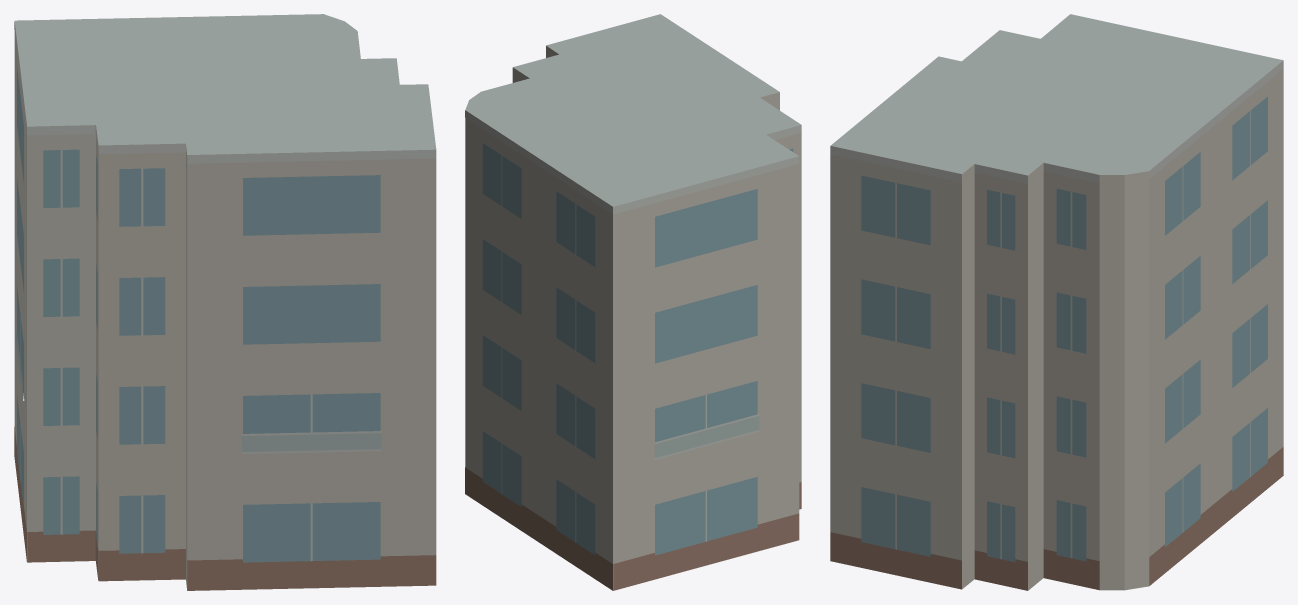
Rendered from residential-18c0a612-af73-421d-92ad-f899c7bf254e.glb.
3 views of the same model, side by side, from view 1: azimuth 30°, elevation 25°; view 2: azimuth 150°, elevation 25°; view 3: azimuth 270°, elevation 25° (orthographic). The views are drawn at different scales.
Parts seen in each view (by area): view 1: residential-18c0a612-af73-421d-92ad-f899c7bf254e.tmp; view 2: residential-18c0a612-af73-421d-92ad-f899c7bf254e.tmp; view 3: residential-18c0a612-af73-421d-92ad-f899c7bf254e.tmp.
Boxes of the visible parts, <box> form: residential-18c0a612-af73-421d-92ad-f899c7bf254e.tmp: <box>14,14,436,590</box>; residential-18c0a612-af73-421d-92ad-f899c7bf254e.tmp: <box>465,14,801,590</box>; residential-18c0a612-af73-421d-92ad-f899c7bf254e.tmp: <box>830,14,1283,590</box>.
Size of the model in its own units: 10.19 by 12.2 by 12.08.
